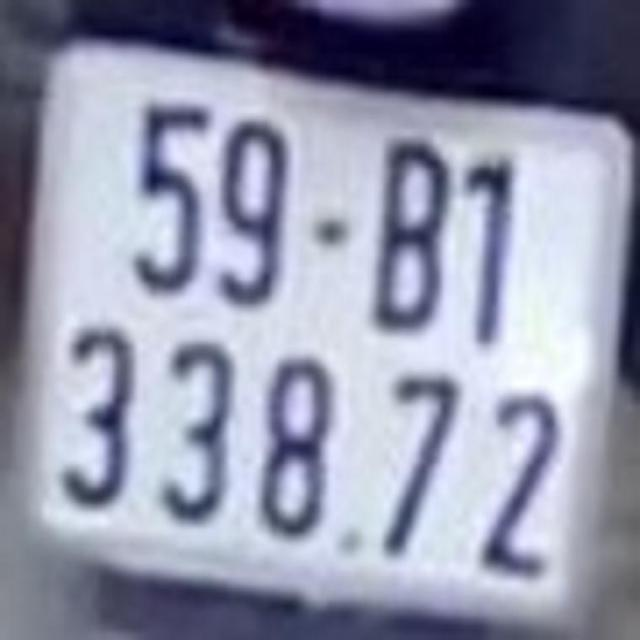1: (459, 146, 514, 351)
2: (483, 388, 560, 580)
3: (63, 321, 137, 513), (161, 340, 236, 524)
5: (126, 96, 207, 297)
7: (383, 377, 461, 553)
8: (263, 353, 336, 538)
9: (213, 118, 287, 310)
B: (371, 130, 448, 338)
